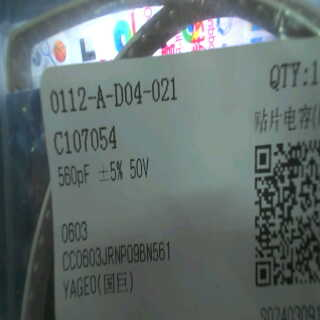560pF: (54, 158, 94, 190)
